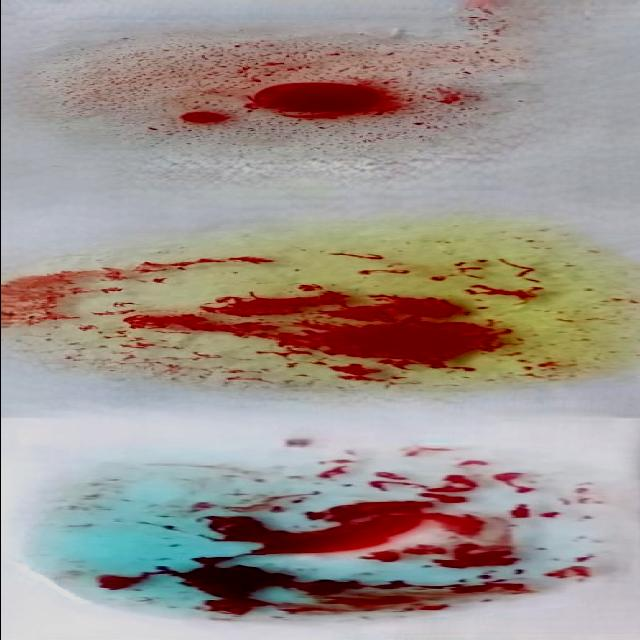A: (36, 463, 632, 612)
B: (26, 236, 640, 396)
D: (45, 27, 541, 159)
